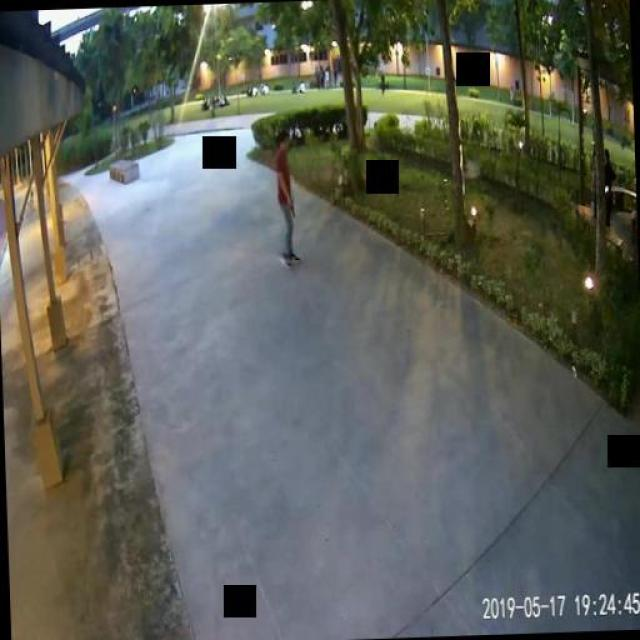gun: (286, 196, 294, 215)
